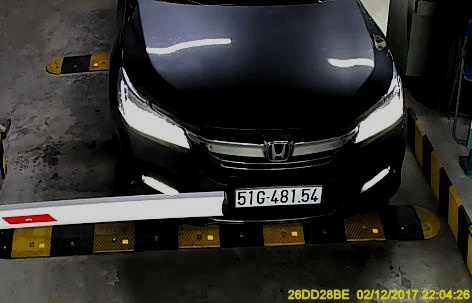plate: (230, 184, 325, 210)
